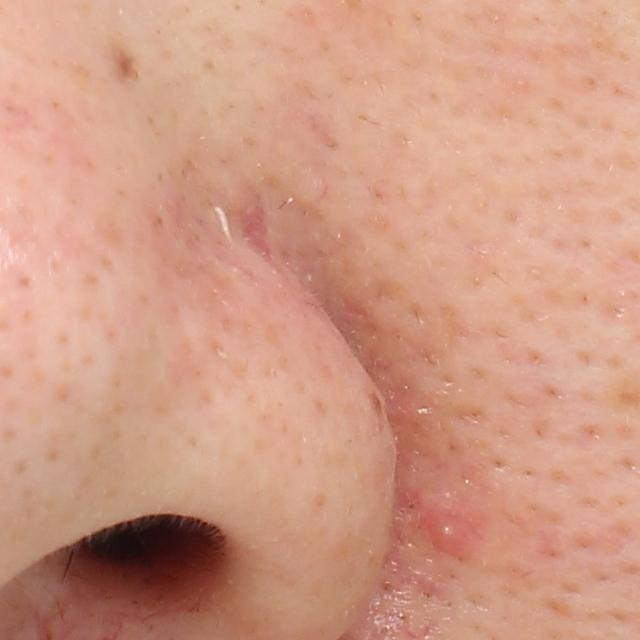atrophic_scar: (238, 190, 278, 273)
nevus: (114, 44, 145, 89)
pustule: (434, 516, 468, 550)
